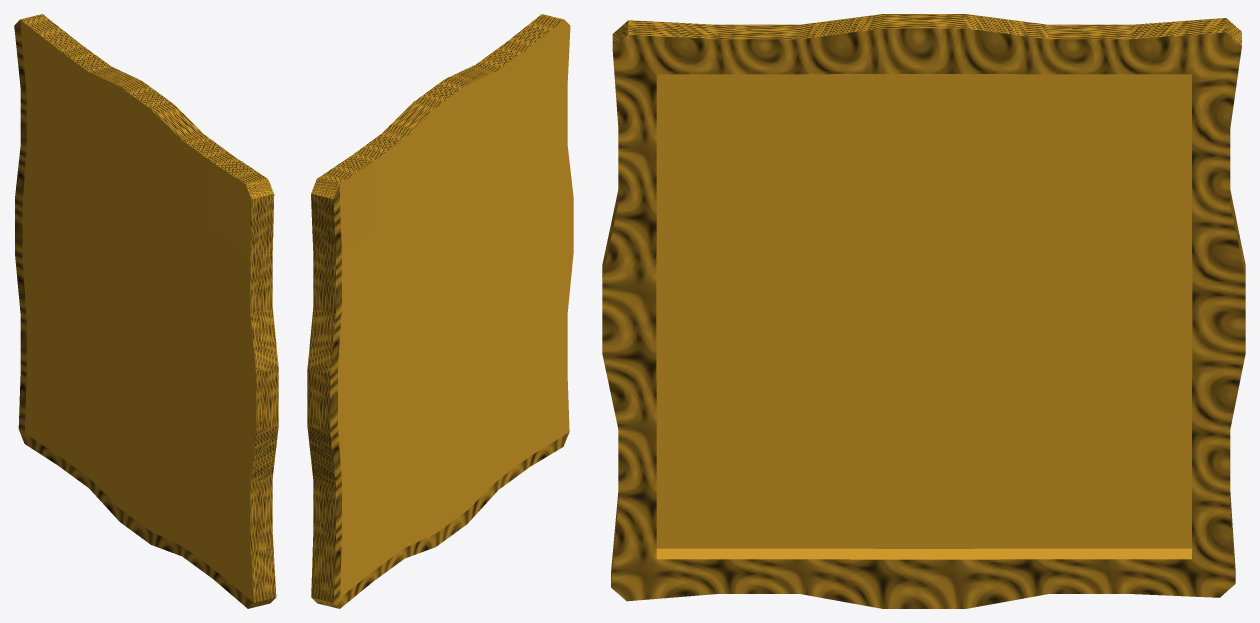
The model's file is portrait.fbx.
3 renders of one model, left to right at view 1: azimuth 30°, elevation 25°; view 2: azimuth 150°, elevation 25°; view 3: azimuth 270°, elevation 25°, orthographic. The views are drawn at different scales.
Parts seen in each view (by area): view 1: MainFrame; view 2: MainFrame; view 3: MainFrame.
Boxes of the visible parts, box(x1,y1,x2,y2) form: MainFrame: box(14, 14, 278, 608); MainFrame: box(307, 14, 573, 608); MainFrame: box(602, 14, 1245, 608).
Bounding box in the file's own units: 12.05 × 198 × 198.
Materials: 2 (1 with a texture image).
